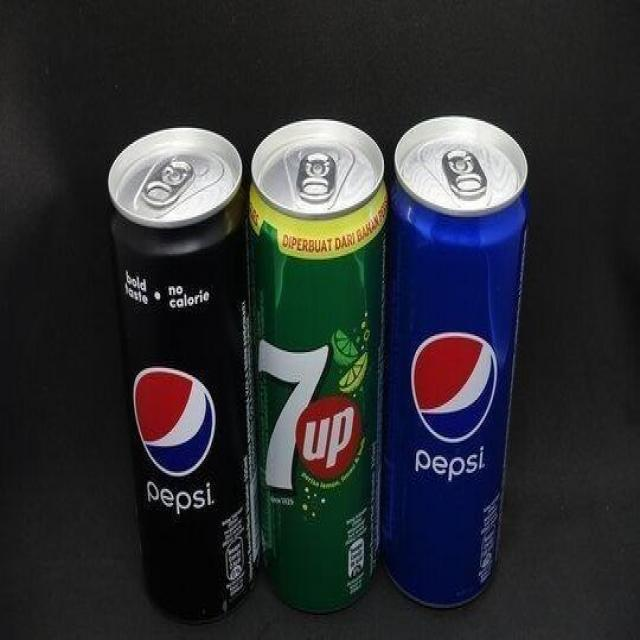tin can: (105, 124, 258, 624), (380, 114, 531, 610), (246, 117, 388, 615)
